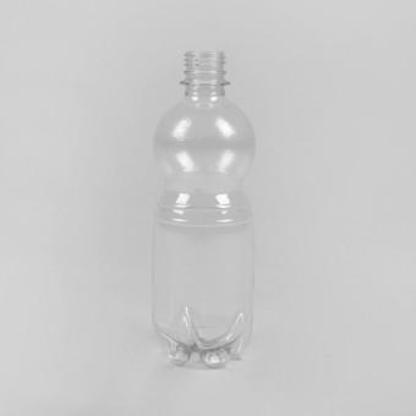Plastic Bottle: (132, 41, 268, 374)
